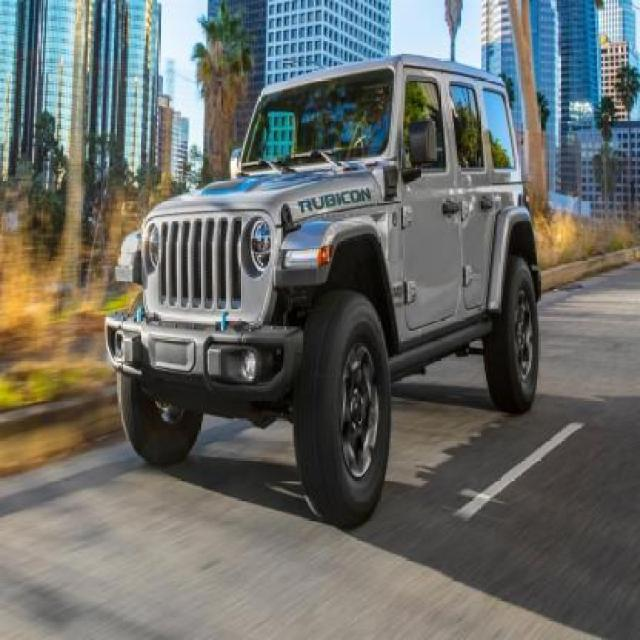Jeep: (102, 43, 544, 526)
